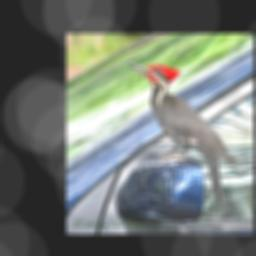Woodpecker: (127, 63, 240, 219)
